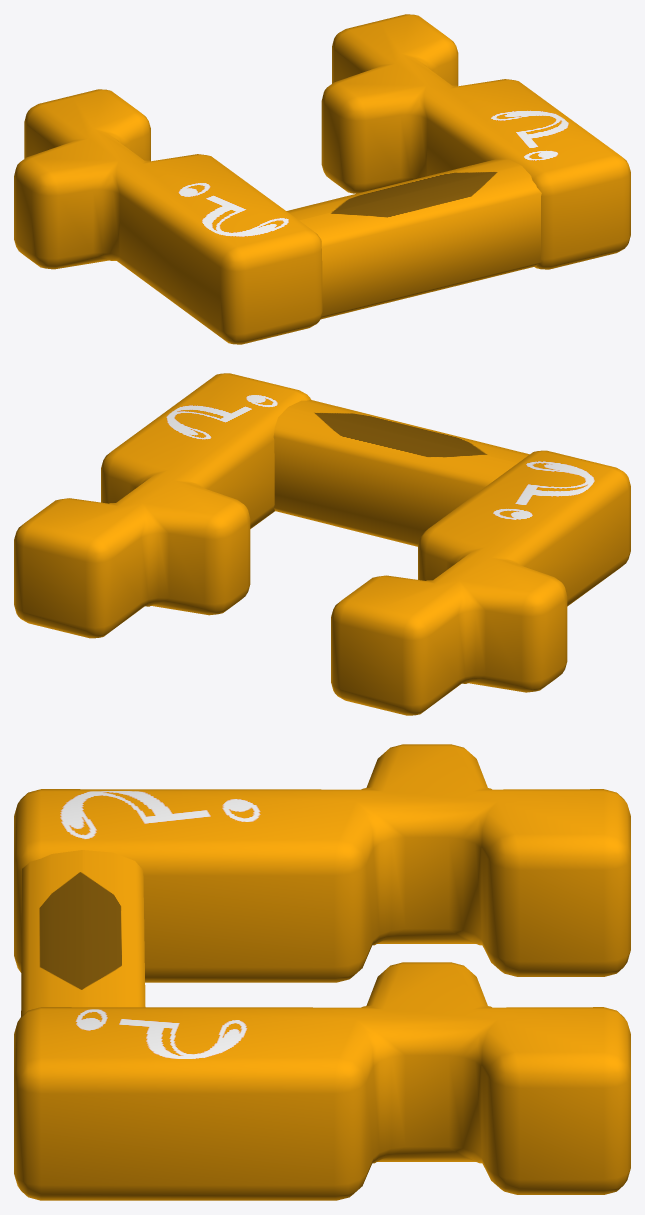
Rendered from bloqueIF.fbx.
The picture shows the model from 3 angles, top to bottom: view 1: azimuth 30°, elevation 25°; view 2: azimuth 150°, elevation 25°; view 3: azimuth 270°, elevation 25°; orthographic projection. The views are drawn at different scales.
Visible parts, largest first — view 1: BloqueIF.001, BloqueIF, BloqueIF.002; view 2: BloqueIF.001, BloqueIF, BloqueIF.002; view 3: BloqueIF, BloqueIF.001, BloqueIF.002.
Part boxes in pixels (x1=…): BloqueIF.001: x1=14, y1=89, x2=322, y2=344; BloqueIF: x1=321, y1=14, x2=630, y2=269; BloqueIF.002: x1=286, y1=159, x2=541, y2=319; BloqueIF.001: x1=331, y1=450, x2=630, y2=715; BloqueIF: x1=14, y1=373, x2=311, y2=638; BloqueIF.002: x1=273, y1=400, x2=529, y2=546; BloqueIF: x1=14, y1=962, x2=630, y2=1200; BloqueIF.001: x1=14, y1=744, x2=630, y2=982; BloqueIF.002: x1=21, y1=850, x2=145, y2=1016.
Bounding box in the file's own units: 325 × 63.79 × 254.
